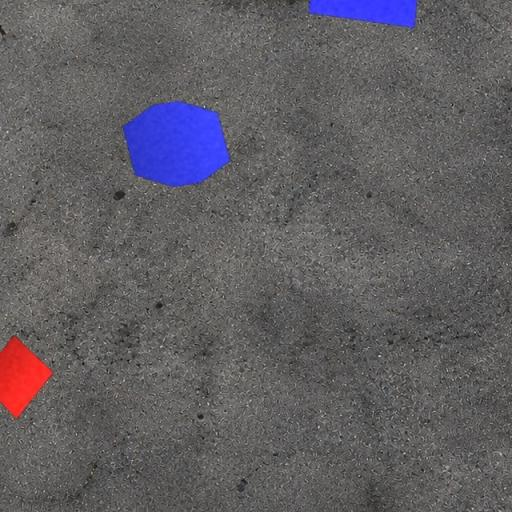RED_SQUARE: (0, 334, 54, 420)
